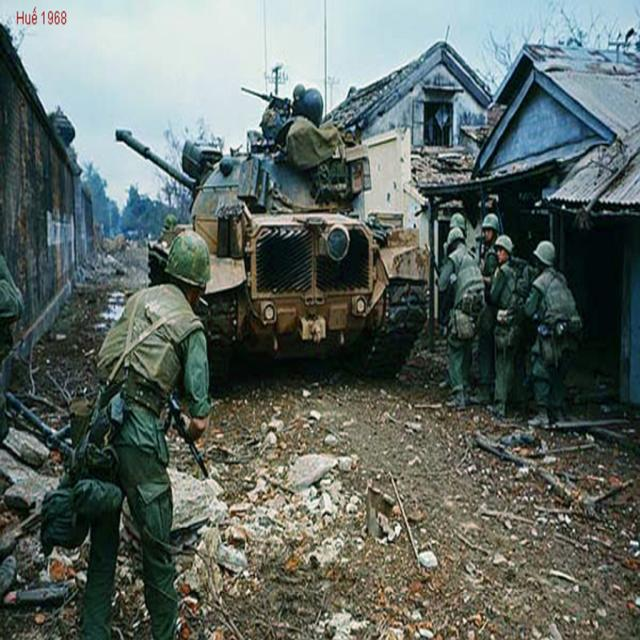tank: (114, 86, 432, 388)
